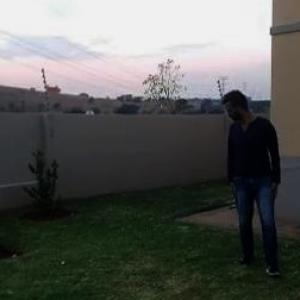follow: (225, 83, 289, 275)
